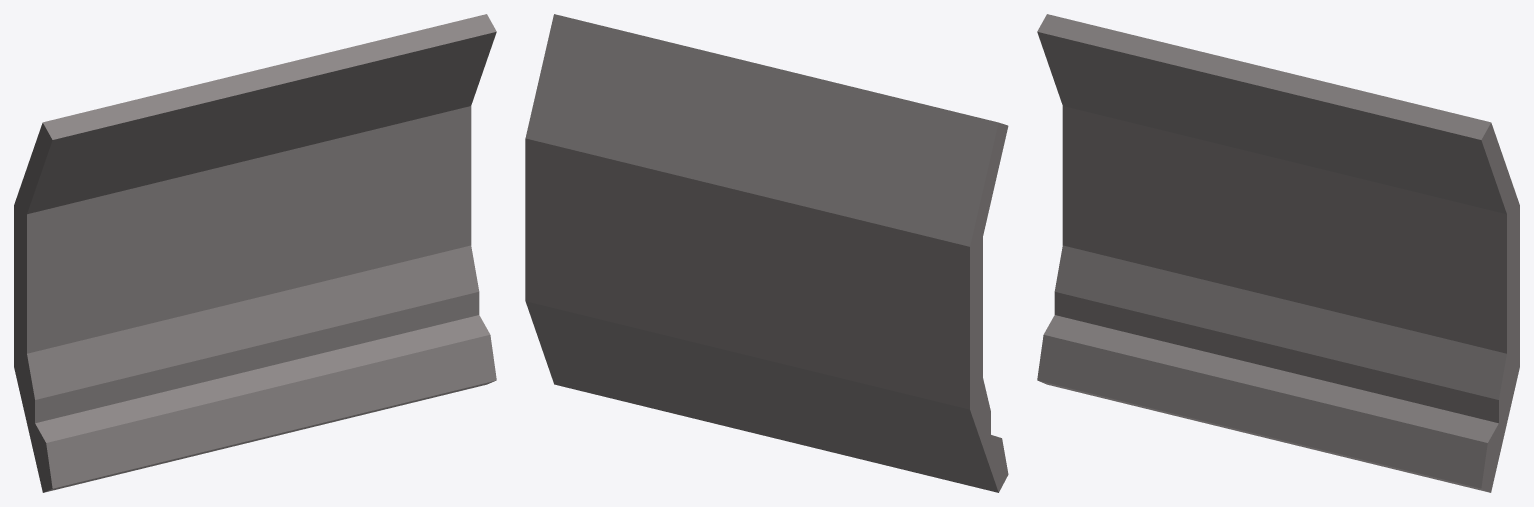
Rendered from scifi-wall-corridor.glb.
The picture shows the model from 3 angles, left to right: view 1: azimuth 30°, elevation 25°; view 2: azimuth 150°, elevation 25°; view 3: azimuth 330°, elevation 25°; orthographic projection.
Parts seen in each view (by area): view 1: scifi-wall-corridor; view 2: scifi-wall-corridor; view 3: scifi-wall-corridor.
Part boxes in pixels (x1,y1,x2,y2): scifi-wall-corridor: [14, 14, 496, 492]; scifi-wall-corridor: [525, 14, 1008, 492]; scifi-wall-corridor: [1037, 14, 1519, 492].
Bounding box in the file's own units: 4 × 3.19 × 0.6.
Materials: 1 (1 with a texture image).
